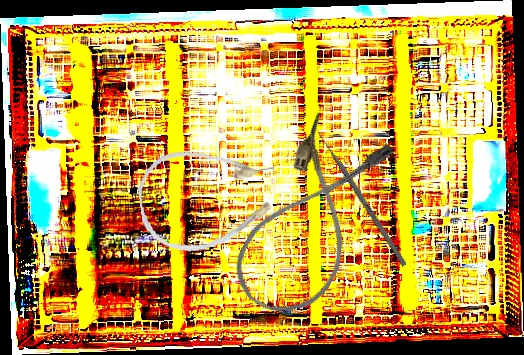Cannula: (221, 106, 402, 331), (134, 140, 283, 258)
Pusher: (311, 123, 408, 267)
